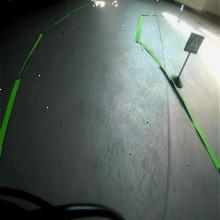crosswalk: (183, 32, 205, 54)
